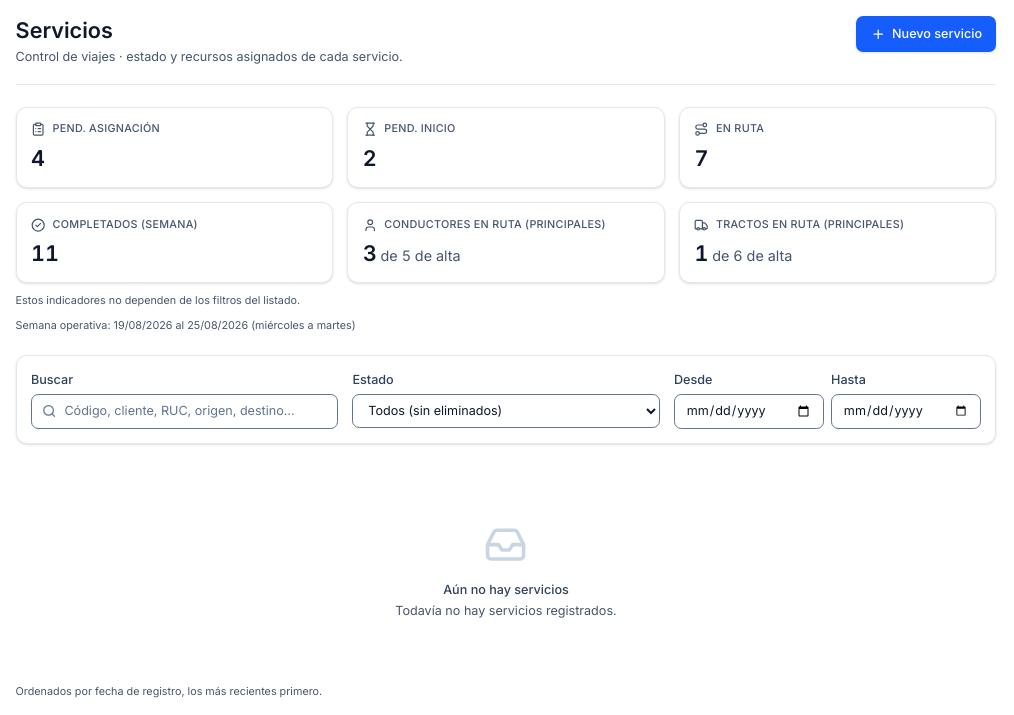
Test: ServicesListPage › reconoce la búsqueda como filtro activo en el estado vacío
Expected: the text "Todavía no hay servicios registrados." is shown, [395,602,617,620]
Type "SRV" into the search field labelled "Buscar" at (185, 411), box [31,394,338,429]
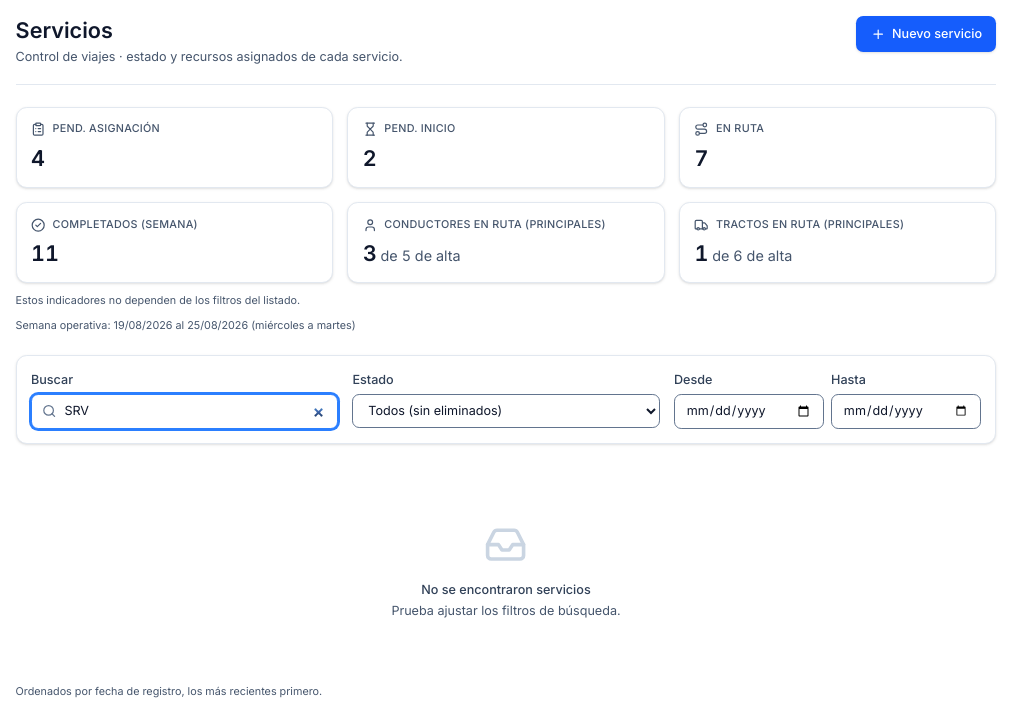
Expected: the text "Prueba ajustar los filtros de búsqueda." is shown, [391,602,621,620]
